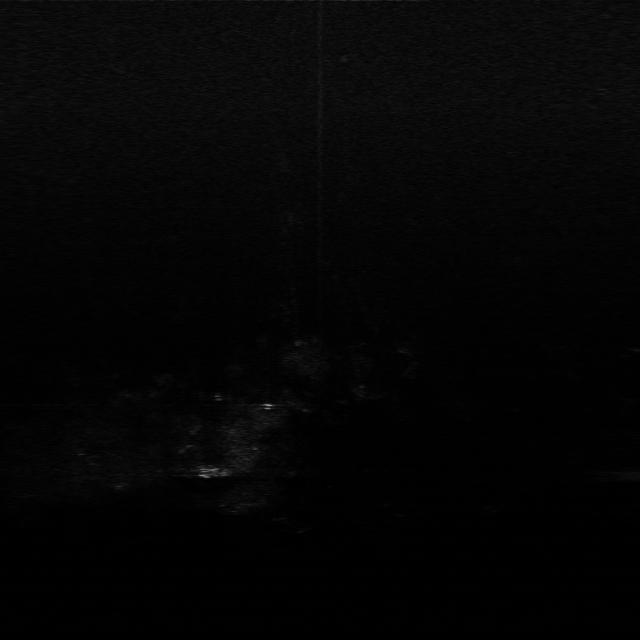rov: (188, 462, 234, 482)
